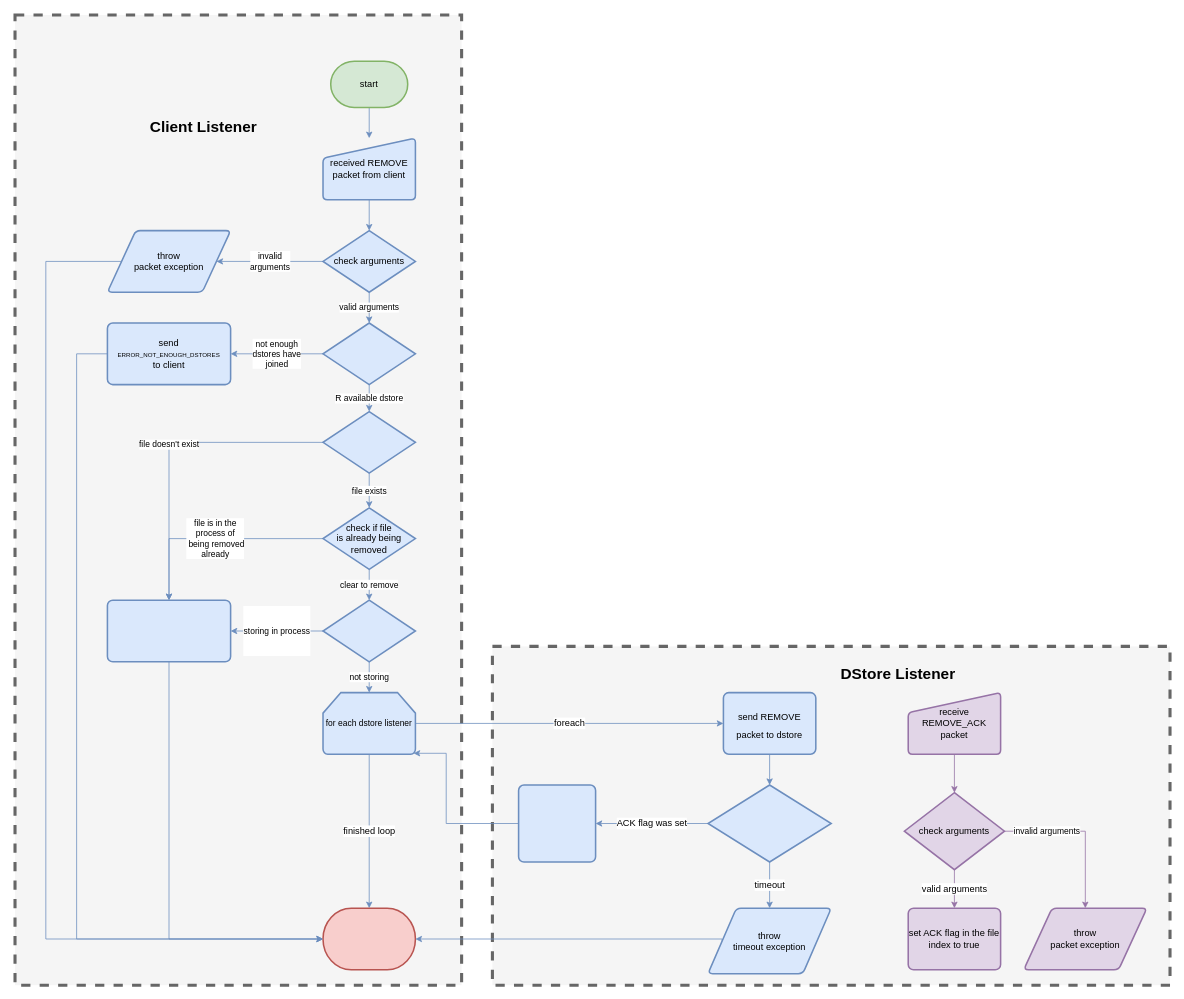
Some shapes in this 1184 by 999 pixel diagram are drawn without their labels. The centre of each missing label's shape, as x and y in pixels:
check available dstores: the point at 369,353
check file exists in index: the point at 369,442
check if file is in process of being stored: the point at 369,630
end: the point at 369,938
reset ACK flag to false: the point at 556,823
send ERROR_FILE_DOES_NOT_EXIST to client: the point at 168,630
wait for ACK flag to be set in the file index: the point at 769,823
